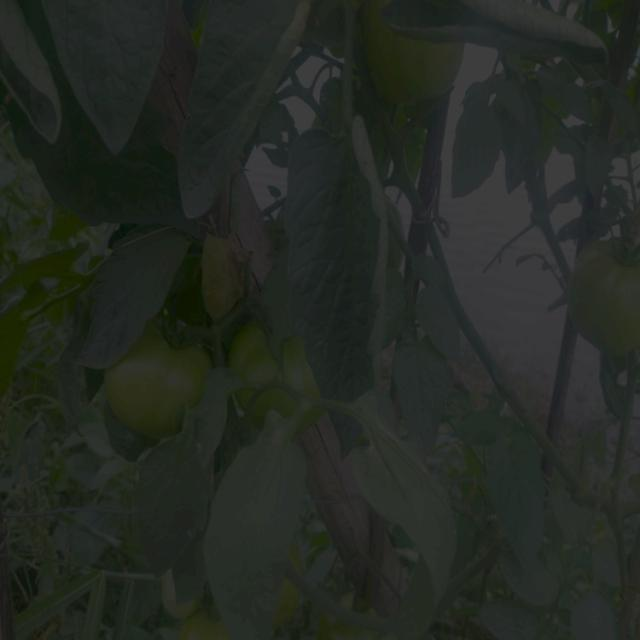tomato: (109, 326, 216, 434), (569, 229, 640, 365), (242, 319, 323, 417), (375, 34, 464, 105), (170, 611, 228, 640), (281, 570, 309, 625)
